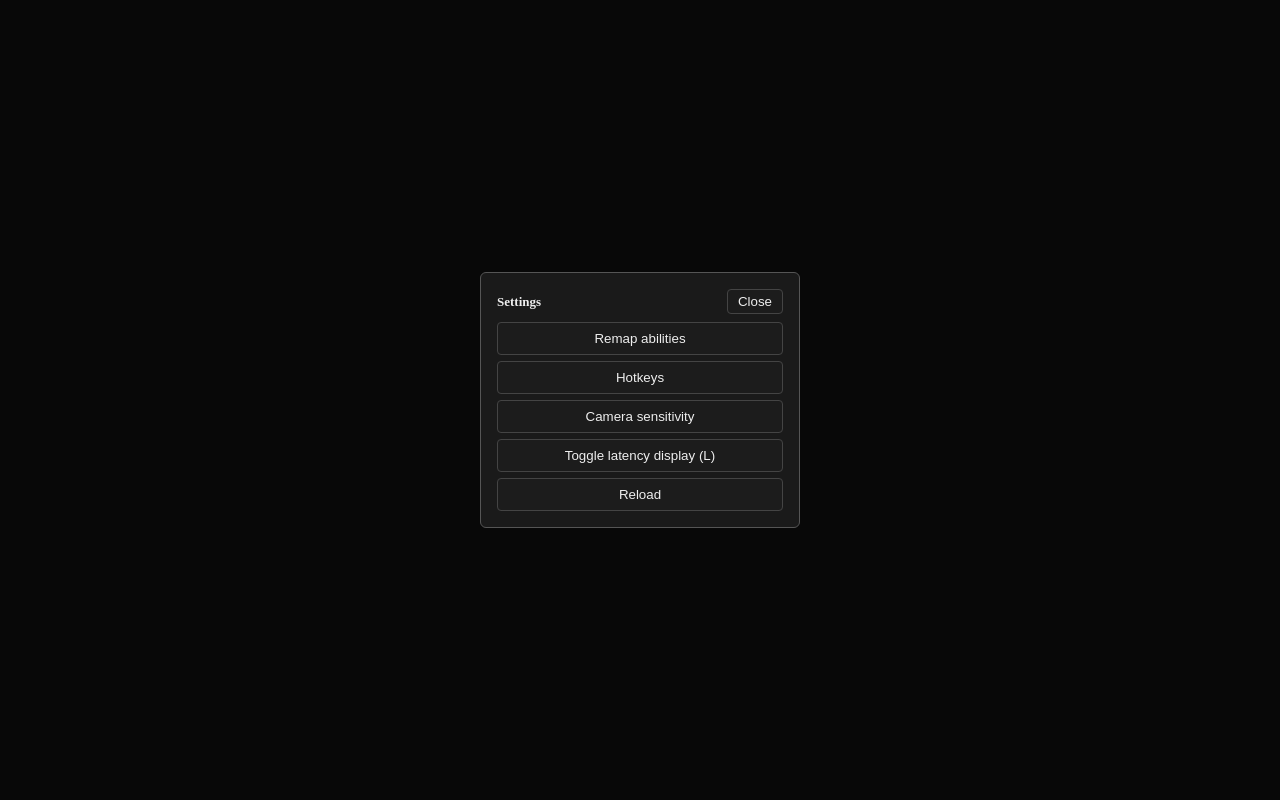
Test case: SettingsDialog hotkeys pane › captures shift as an s+ prefix and ignores lone modifiers
Click the button "Hotkeys".
click(640, 378)  # box left=497, top=361, right=783, bottom=394
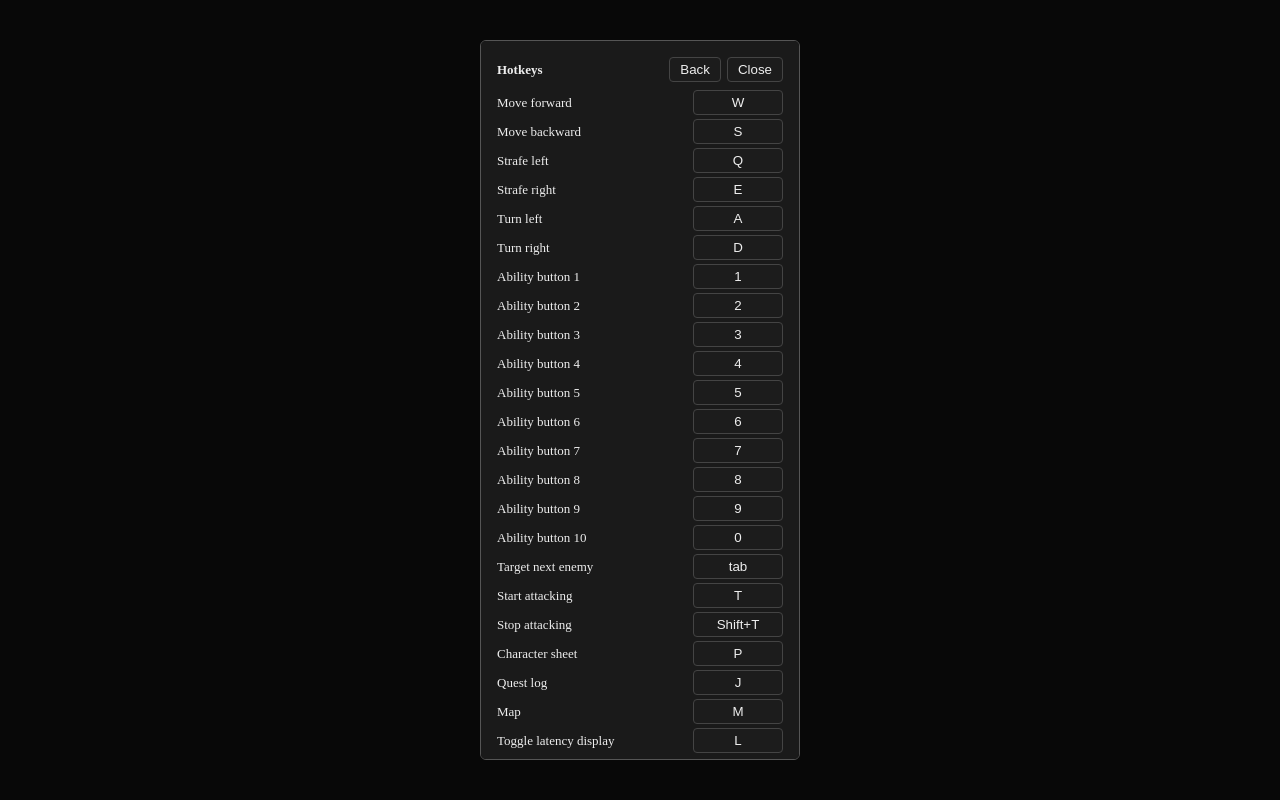
Click the button named "Bind Toggle latency display".
click(738, 740)  # box left=693, top=728, right=783, bottom=753
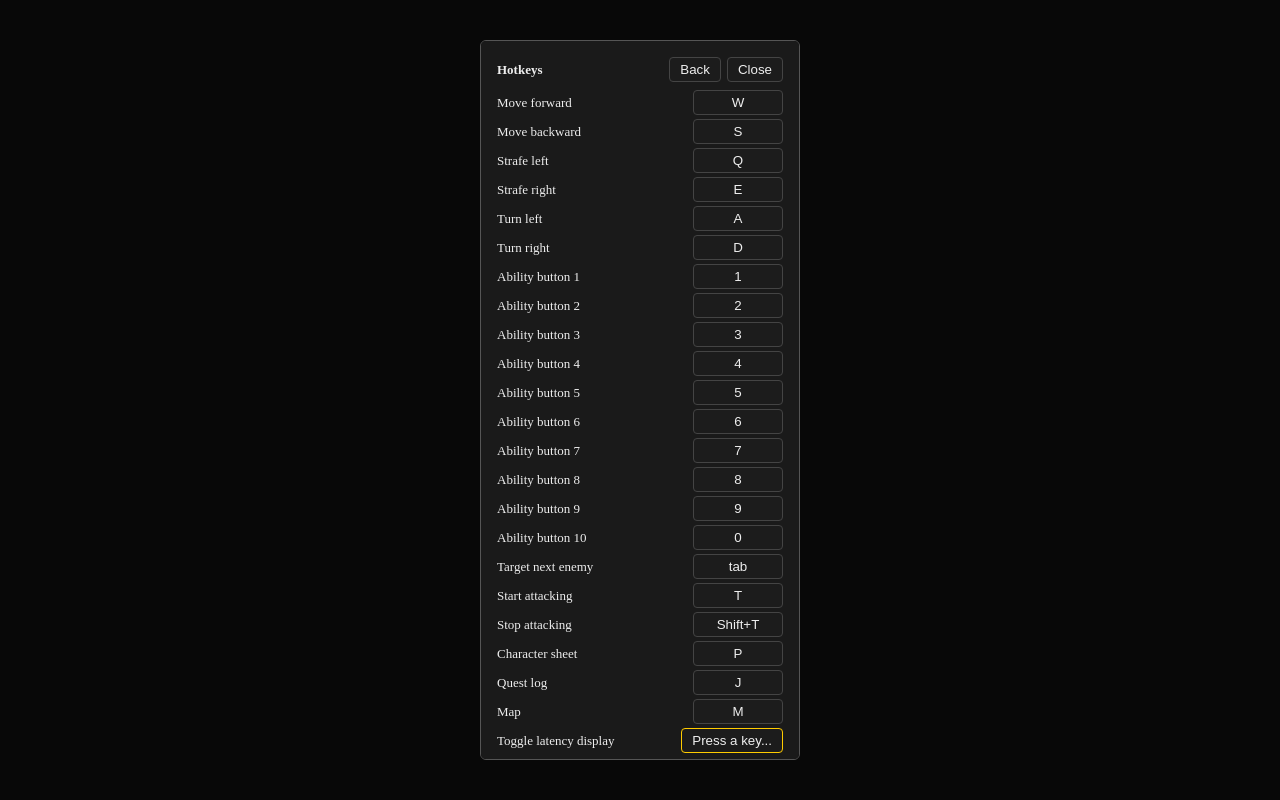
Press ShiftLeft
Now the button with aria-label "Bind Toggle latency display" reads "Press a key...", box left=681, top=728, right=783, bottom=753
Press KeyK
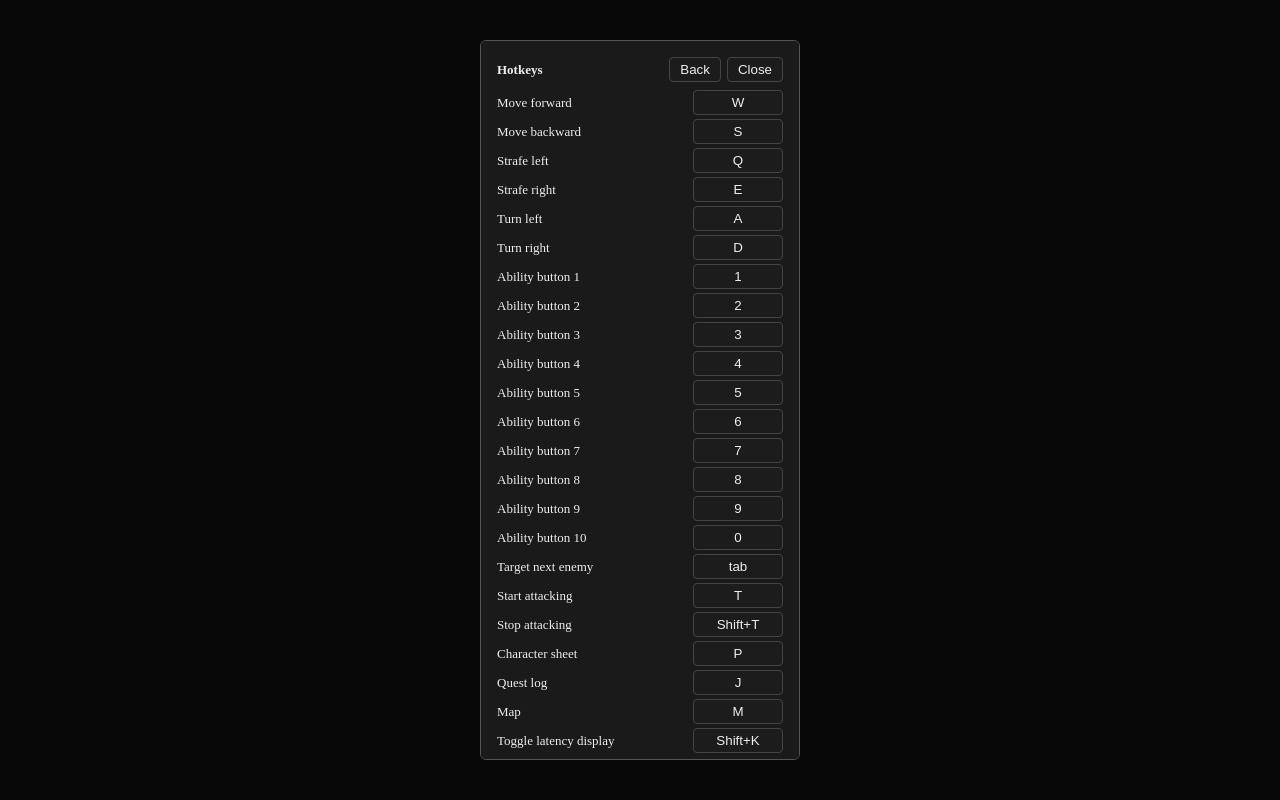
Now the button with aria-label "Bind Toggle latency display" reads "Shift+K", box left=693, top=728, right=783, bottom=753
